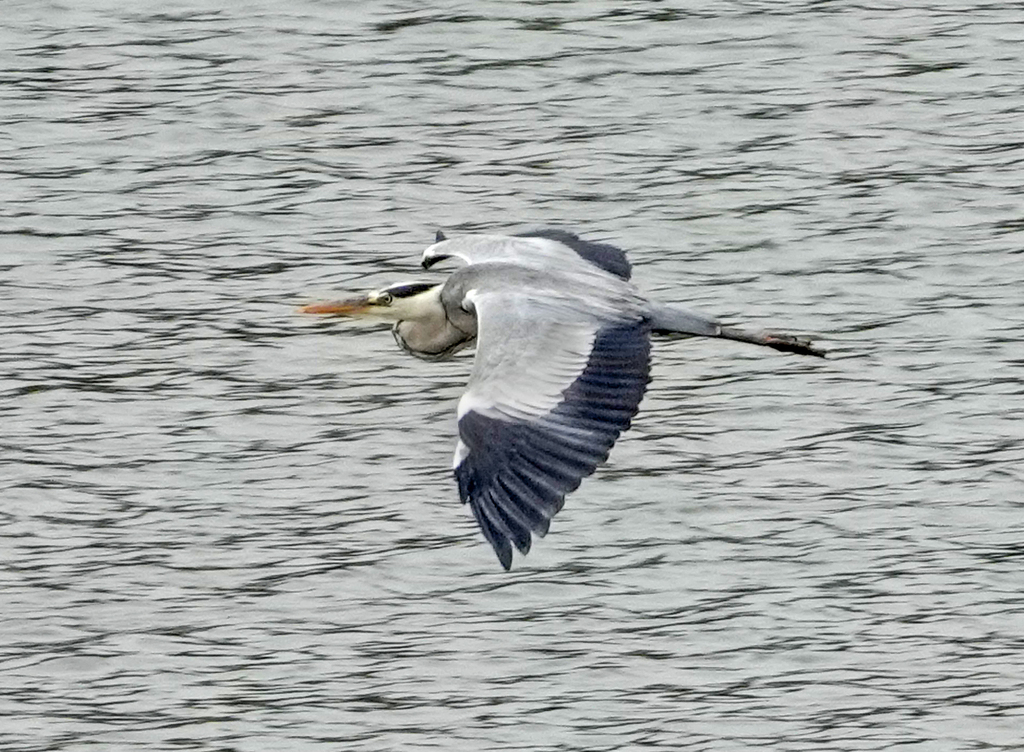heron: (300, 228, 833, 572)
